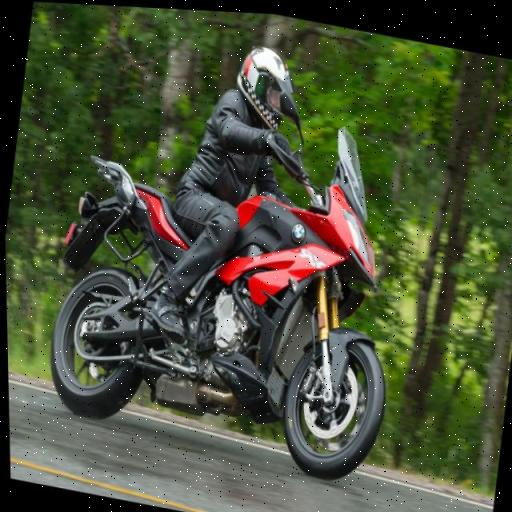Helmet: (213, 38, 303, 144)
Motor: (28, 82, 426, 492)
